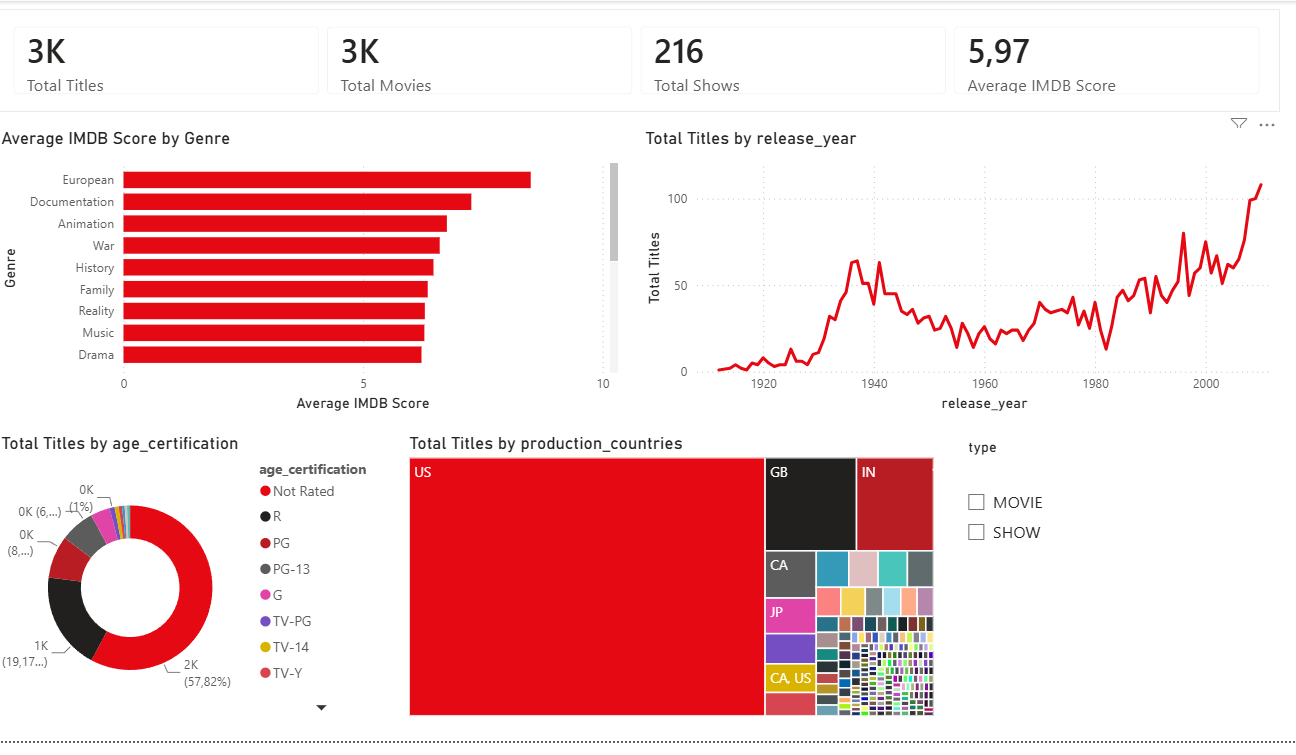

The page's visual inventory and layout, read from the dashboard file:
{"tool":"powerbi","page":{"name":"Content Overview","canvas":[1280,720],"ordinal":0},"visuals":[{"type":"cardVisual","fields":{"Data":["Actors.Total Titles","Actors.Total Movies","Actors.Total Shows","Actors.Average IMDB Score"]},"box":[16,8,1248,100],"z":0},{"type":"clusteredBarChart","fields":{"Category":["titles.Genre"],"Y":["Actors.Average IMDB Score"]},"box":[16,124,610,280],"z":1000},{"type":"lineChart","fields":{"Y":["Actors.Total Titles"],"Category":["titles.release_year"]},"box":[642,124,622,280],"z":2000},{"type":"donutChart","fields":{"Category":["titles.age_certification"],"Y":["Actors.Total Titles"]},"box":[16,420,380,280],"z":3000},{"type":"treemap","fields":{"Group":["titles.production_countries"],"Values":["Actors.Total Titles"]},"box":[412,420,520,280],"z":4000},{"type":"slicer","fields":{"Values":["titles.type"]},"box":[948,420,312,130],"z":5000}]}

Visuals, with their boxes on the page's 1280x720 design canvas (x1, y1, x2, y2). These are canvas units, not pixel positions in the 1296x755 screenshot, which may show the page scaled, cropped or inside an application window:
cardVisual - Actors.Total Titles x Actors.Total Movies: (16, 8, 1264, 108)
clusteredBarChart - titles.Genre x Actors.Average IMDB Score: (16, 124, 626, 404)
lineChart - Actors.Total Titles x titles.release_year: (642, 124, 1264, 404)
donutChart - titles.age_certification x Actors.Total Titles: (16, 420, 396, 700)
treemap - titles.production_countries x Actors.Total Titles: (412, 420, 932, 700)
slicer - titles.type: (948, 420, 1260, 550)
